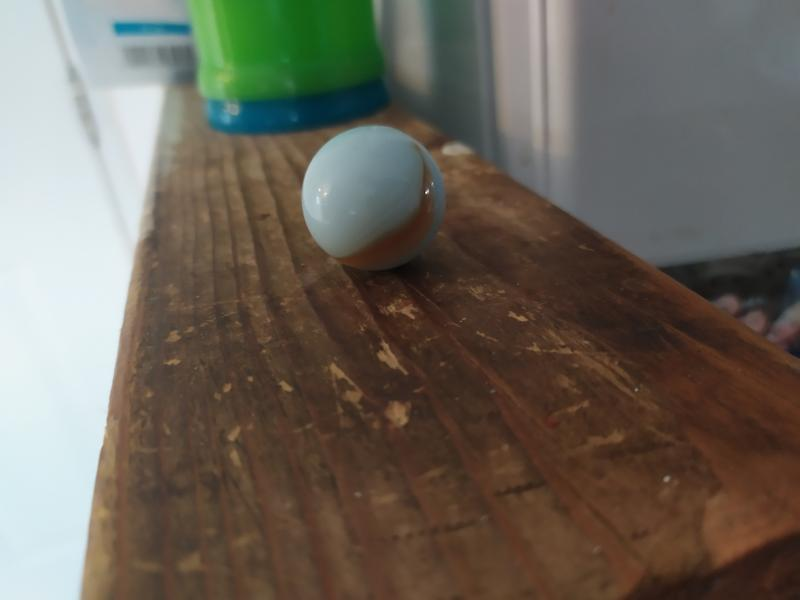Warning: (296, 121, 452, 277)
